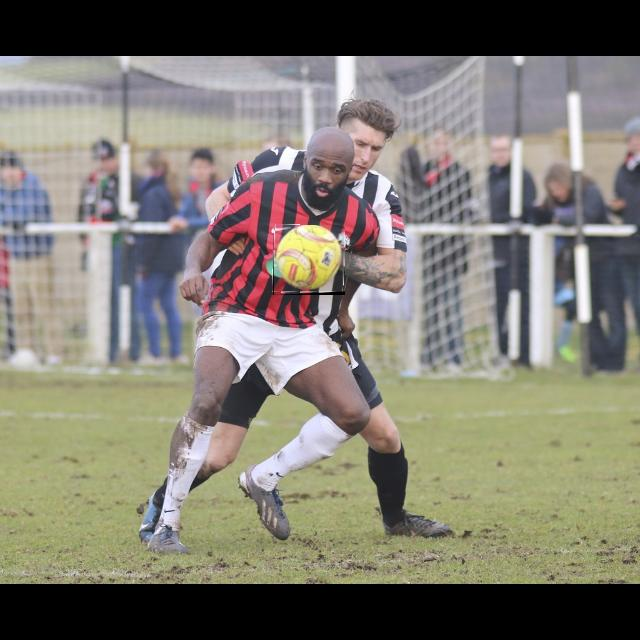Football: (273, 225, 345, 295)
